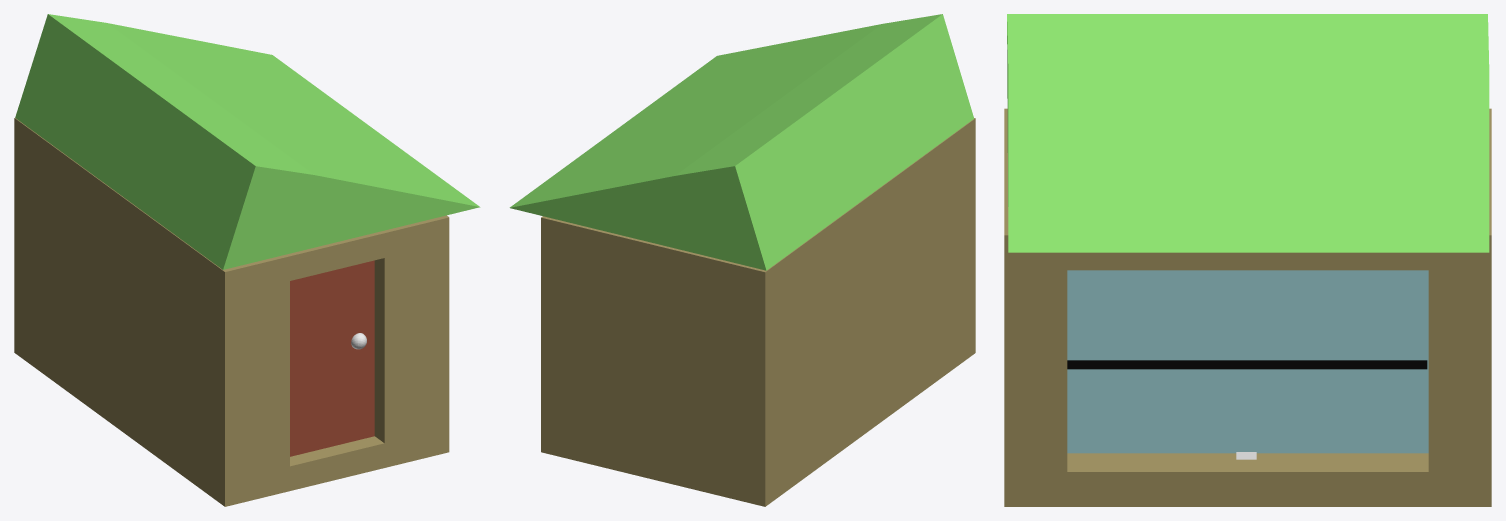
Rendered from House3.fbx.
3 views of the same model, side by side, from view 1: azimuth 30°, elevation 25°; view 2: azimuth 150°, elevation 25°; view 3: azimuth 270°, elevation 25° (orthographic). The views are drawn at different scales.
Visible parts, largest first — view 1: Cube, Cube.001; view 2: Cube, Cube.001; view 3: Cube, Cube.001.
Part boxes in pixels (<box>): Cube: <box>14,118,449,506</box>; Cube.001: <box>15,14,480,269</box>; Cube: <box>541,118,975,506</box>; Cube.001: <box>509,14,973,270</box>; Cube: <box>1004,108,1491,506</box>; Cube.001: <box>1007,14,1489,252</box>.
Bounding box in the file's own units: 588 × 726 × 834.
